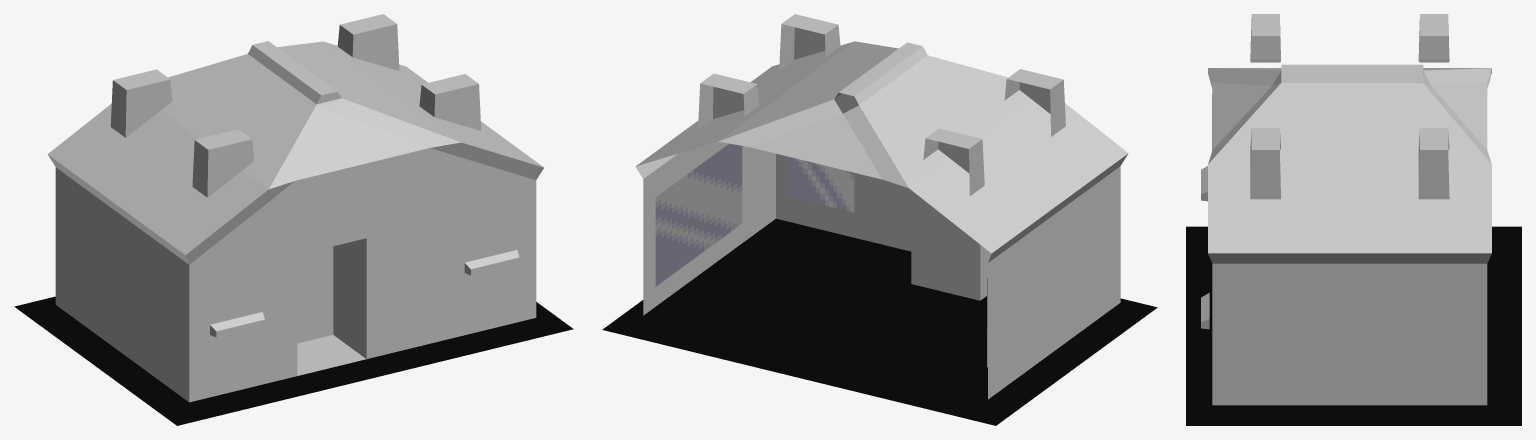
File: Driftviel City House 2.obj
The picture shows the model from 3 angles, left to right: view 1: azimuth 30°, elevation 25°; view 2: azimuth 150°, elevation 25°; view 3: azimuth 270°, elevation 25°; orthographic projection. The views are drawn at different scales.
Parts seen in each view (by area): view 1: polygon2, polygon3, polygon1; view 2: polygon3, polygon1, polygon2, polygon0; view 3: polygon3, polygon2, polygon1.
Part boxes in pixels (bbox=[...]): polygon2: bbox=[55, 155, 536, 402]; polygon3: bbox=[47, 14, 543, 375]; polygon1: bbox=[14, 296, 573, 425]; polygon3: bbox=[635, 14, 1128, 300]; polygon1: bbox=[602, 218, 1157, 425]; polygon2: bbox=[643, 93, 1120, 399]; polygon0: bbox=[655, 143, 987, 367]; polygon3: bbox=[1208, 14, 1491, 263]; polygon2: bbox=[1201, 94, 1487, 405]; polygon1: bbox=[1186, 226, 1521, 425].
Size of the model in its own units: 103 by 62.05 by 73.27.
